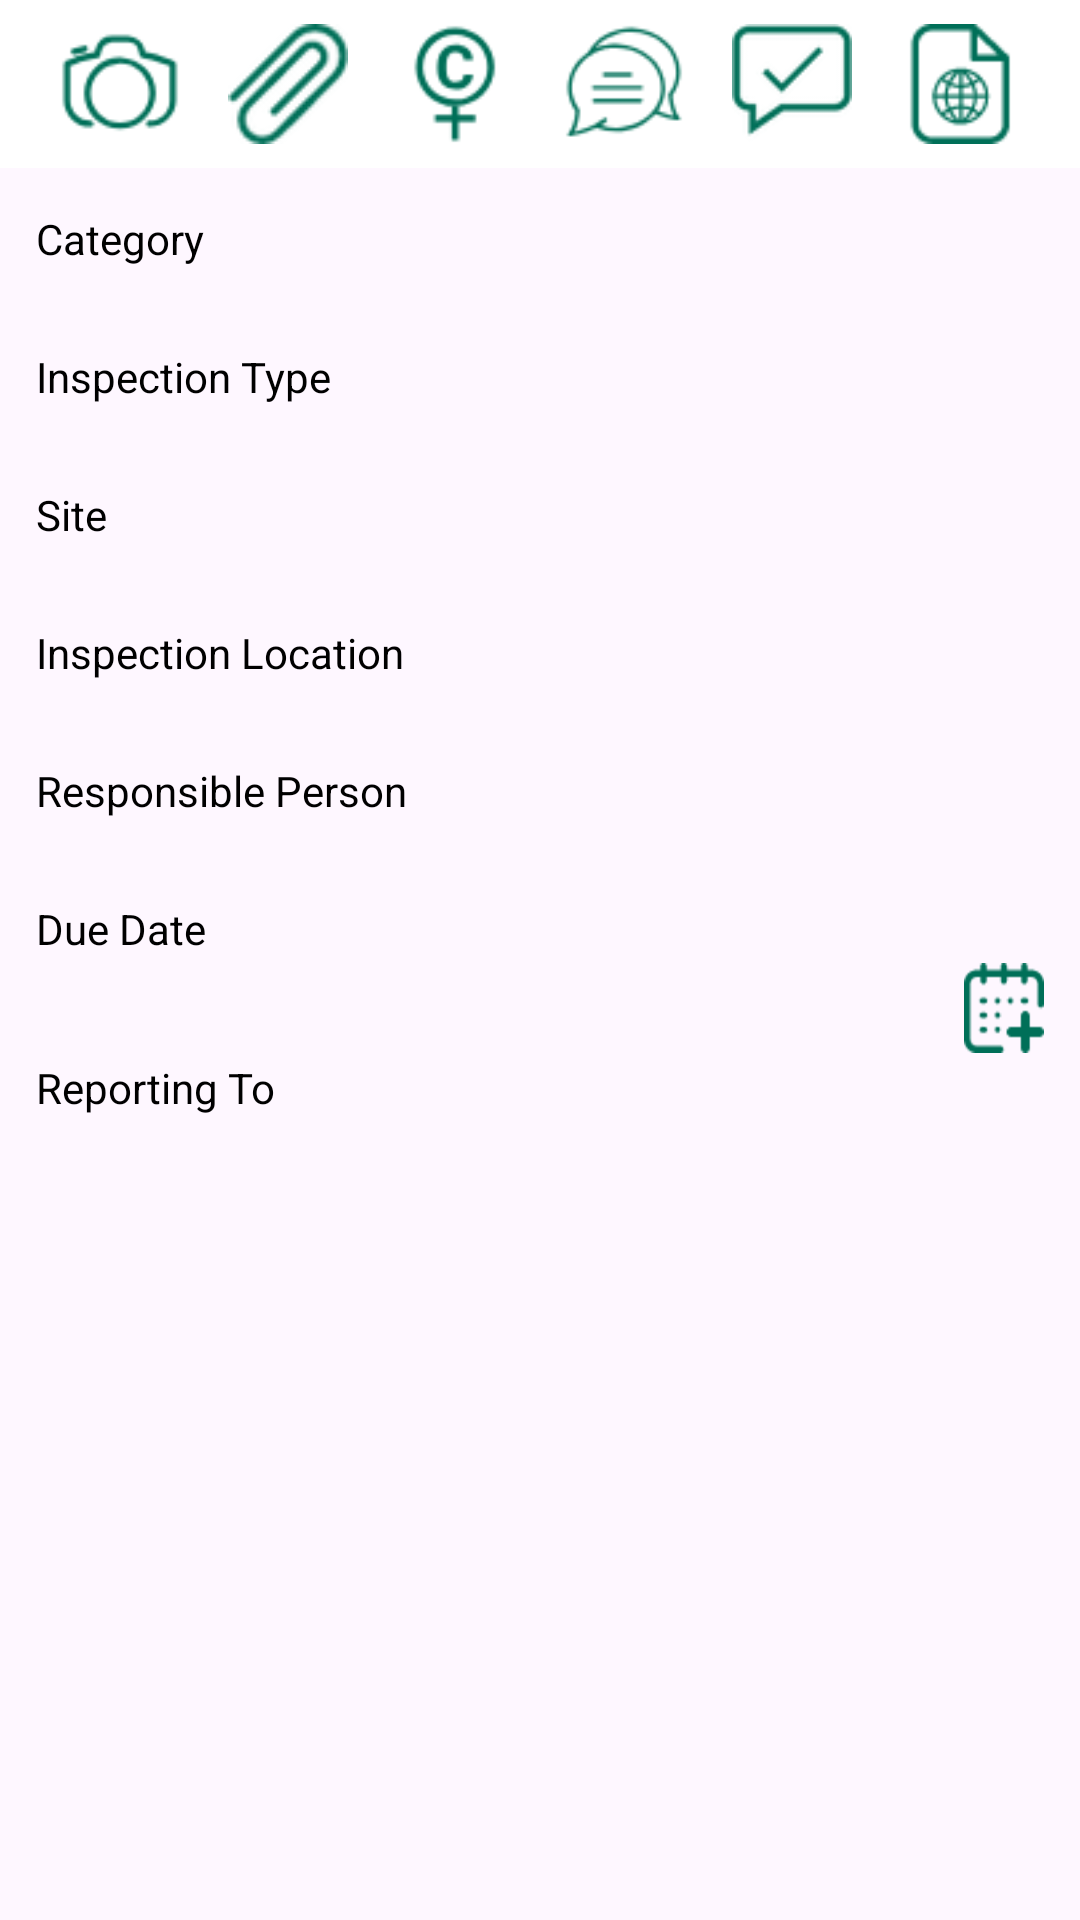

Icons on this 1080 × 1920 Android screen, each with the point to tap as (x,y):
calendar add: (1004,1008)
clip: (288,84)
comments: (624,81)
inspection completed: (792,79)
photo: (120,82)
webform: (960,84)
